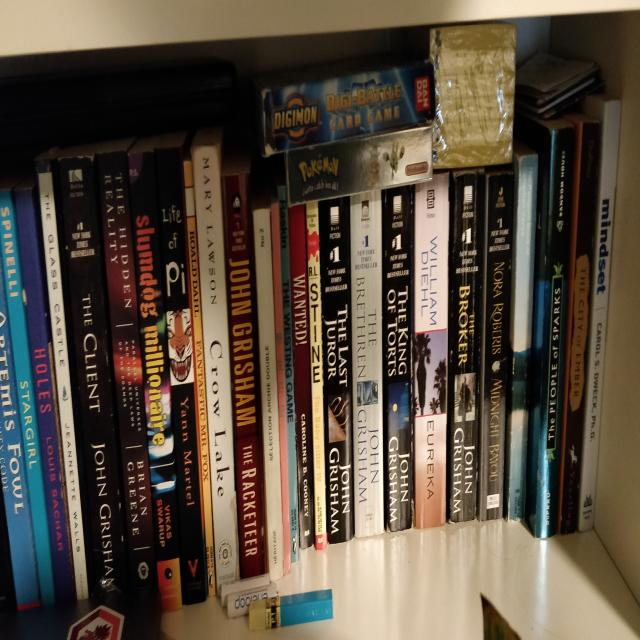book: (34, 158, 91, 617), (192, 125, 239, 604), (450, 154, 483, 533)
